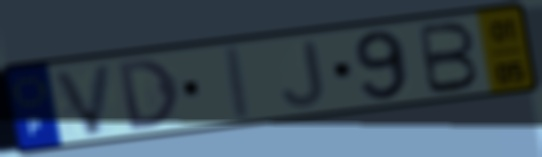9: (353, 28, 412, 104)
B: (416, 19, 482, 97)
D: (113, 55, 183, 133)
I: (224, 42, 255, 125)
J: (279, 38, 329, 110)
V: (50, 60, 116, 139)
